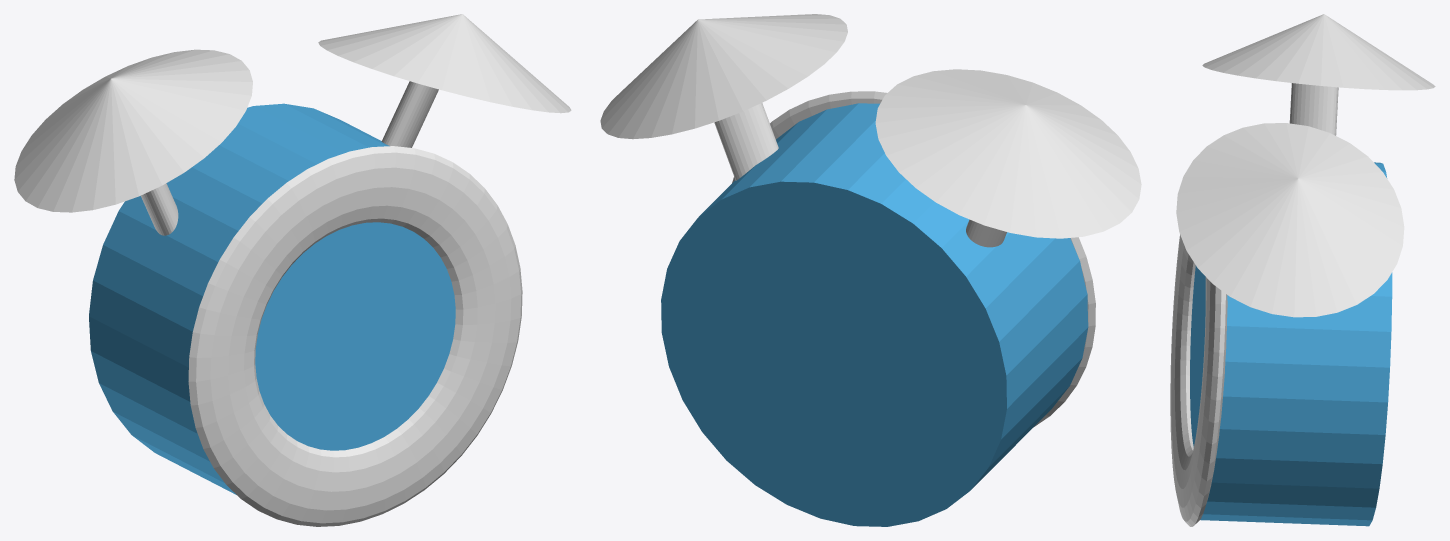
File: bateria.fbx
3 views of the same model, side by side, from view 1: azimuth 30°, elevation 25°; view 2: azimuth 150°, elevation 25°; view 3: azimuth 270°, elevation 25° (orthographic). The views are drawn at different scales.
Visible parts, largest first — view 1: Cilindro, Rosca, Cono.003, Cono.001, Cilindro.002, Cilindro.001; view 2: Cilindro, Cono.003, Cono.001, Rosca, Cilindro.002, Cilindro.001; view 3: Cilindro, Cono.001, Rosca, Cono.003, Cilindro.001.
Boxes of the visible parts, <box> form: Cilindro: <box>89,103,455,494</box>; Rosca: <box>188,146,522,526</box>; Cono.003: <box>14,49,252,212</box>; Cono.001: <box>318,14,571,113</box>; Cilindro.002: <box>381,81,438,147</box>; Cilindro.001: <box>141,183,178,235</box>; Cilindro: <box>661,103,1088,526</box>; Cono.003: <box>875,69,1141,238</box>; Cono.001: <box>600,14,847,139</box>; Rosca: <box>732,91,1095,427</box>; Cilindro.002: <box>714,103,778,180</box>; Cilindro.001: <box>966,219,1006,247</box>; Cilindro: <box>1190,162,1392,526</box>; Cono.001: <box>1176,123,1404,317</box>; Rosca: <box>1170,234,1227,526</box>; Cono.003: <box>1202,14,1435,90</box>; Cilindro.001: <box>1289,83,1338,135</box>.
Bounding box in the file's own units: 635 × 518 × 297.
